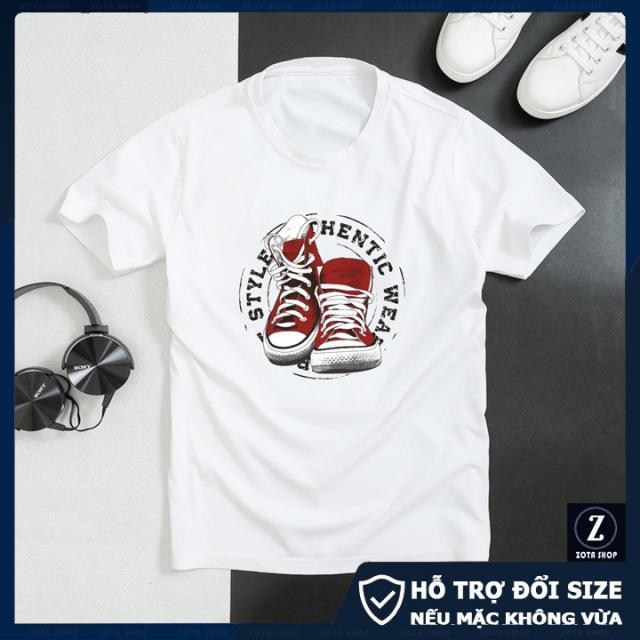Shirt: (56, 53, 592, 578)
